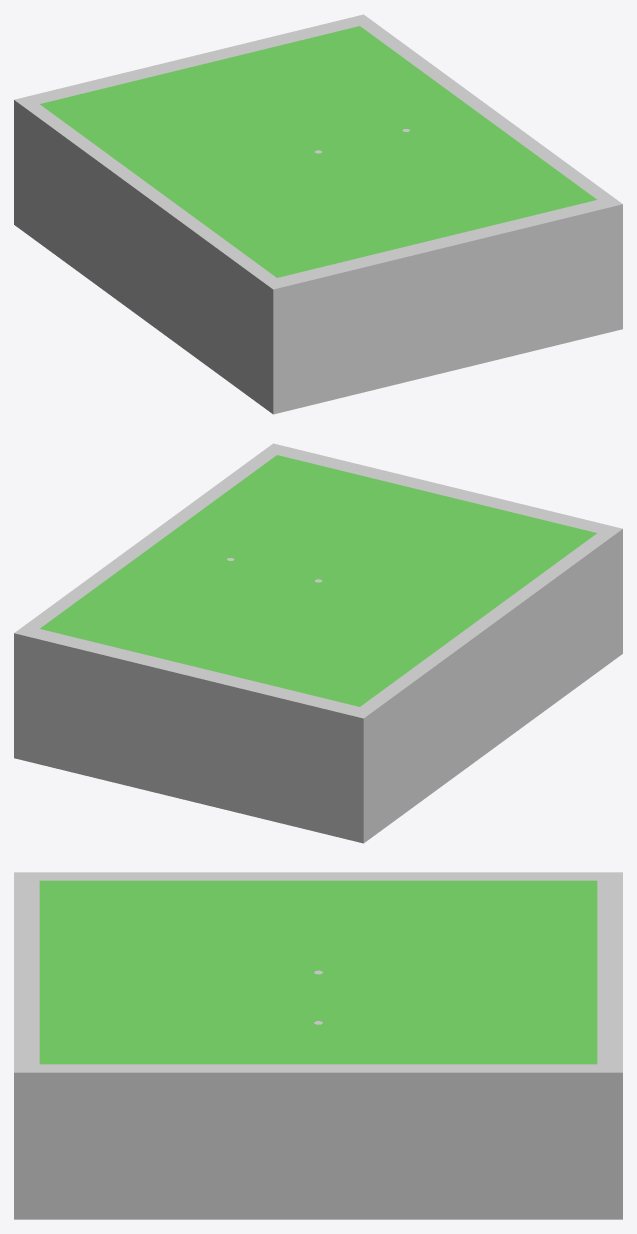
File: locatia2_morgenstern.fbx
3 renders of one model, top to bottom at view 1: azimuth 30°, elevation 25°; view 2: azimuth 150°, elevation 25°; view 3: azimuth 270°, elevation 25°, orthographic. The views are drawn at different scales.
Parts seen in each view (by area): view 1: Plane; view 2: Plane; view 3: Plane.
Boxes of the visible parts, left/top/right/bottom form: Plane: left=14, top=14, right=622, bottom=414; Plane: left=14, top=443, right=622, bottom=843; Plane: left=14, top=872, right=622, bottom=1219.
Bounding box in the file's own units: 732 × 250 × 940.
